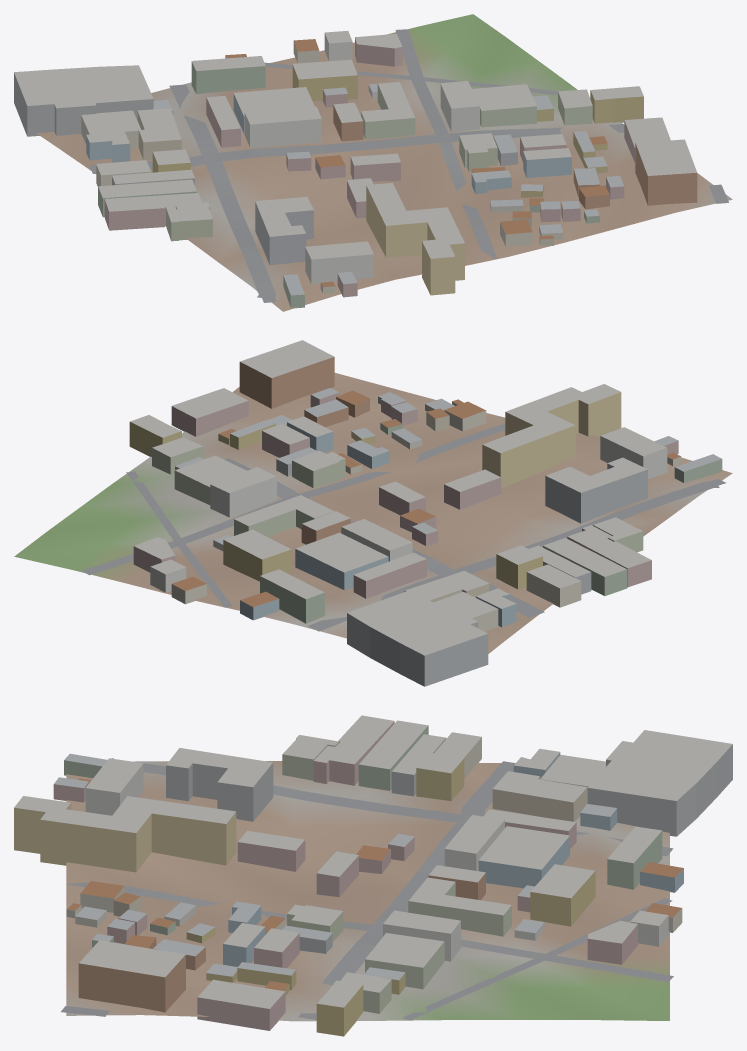
3 renders of one model, top to bottom at view 1: azimuth 30°, elevation 25°; view 2: azimuth 150°, elevation 25°; view 3: azimuth 270°, elevation 25°, orthographic. The views are drawn at different scales.
Visible parts, largest first — view 1: Lo; view 2: Lo; view 3: Lo.
Part boxes in pixels (<box>): Lo: <box>14,14,732,311</box>; Lo: <box>14,340,732,686</box>; Lo: <box>14,715,732,1036</box>.
Bounding box in the file's own units: 298 × 21.94 × 305.
